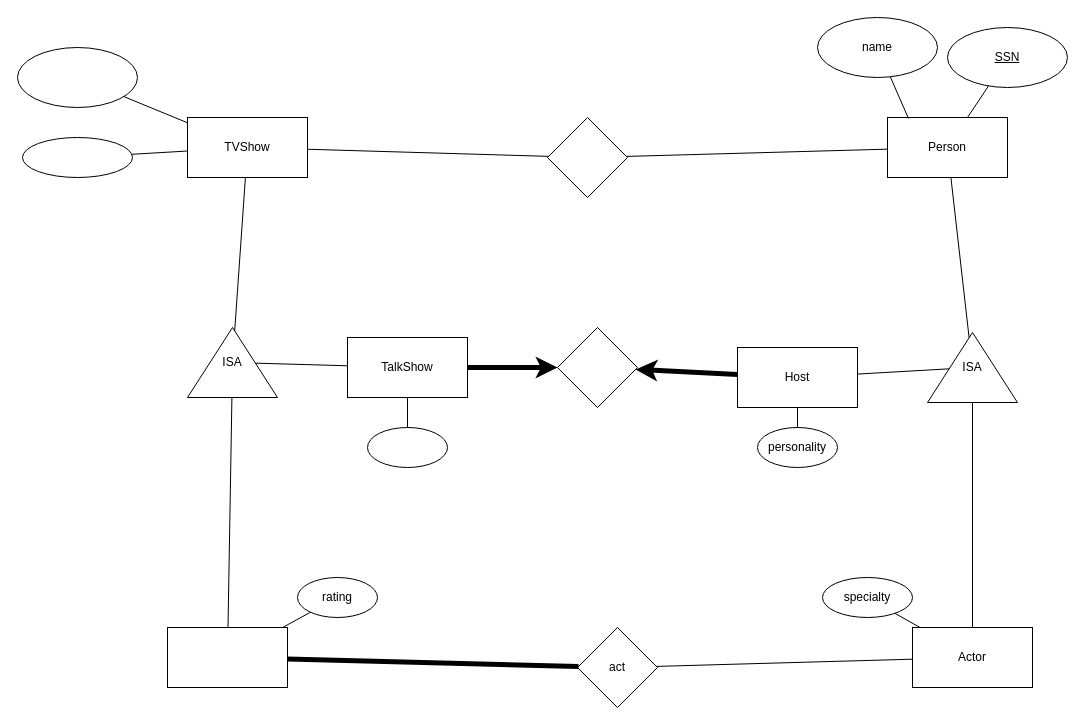
Image size: 1085x725. Some labels were removed from this diagram. Here are the shapes that lost their labels. From the top down, the box of each, then its label:
(16, 46, 138, 108): channel
(22, 136, 132, 178): TVName
(546, 116, 628, 198): watch
(556, 326, 638, 408): has
(366, 426, 448, 468): topic
(166, 626, 288, 688): Drama
